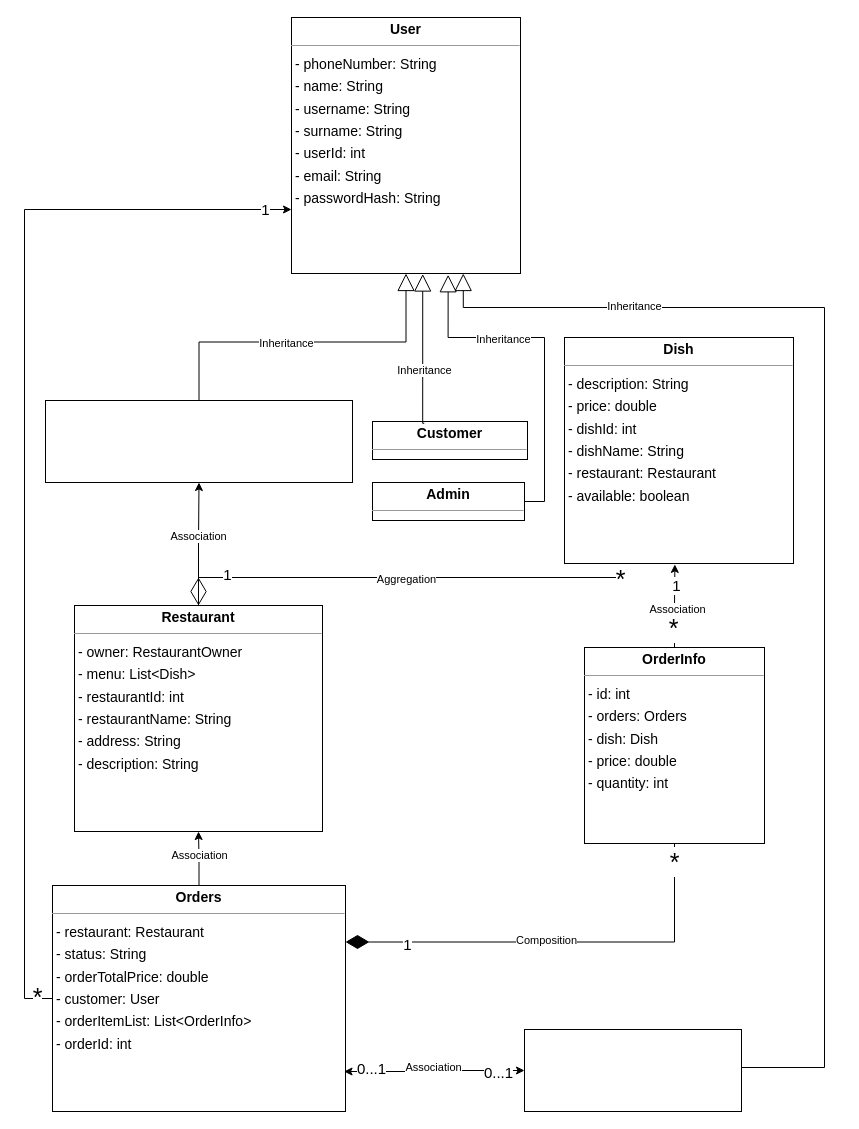
The diagram is 859 pixels wide and 1129 high, and some of its shapes have lost their labels. The shapes that lost their labels are listed below. From the top down, each one's centre as x and y in pixels, then its label:
(x=198, y=441): RestaurantOwner - restaurantList: List<Restaurant>
(x=633, y=1070): Driver - currentOrder: Orders
